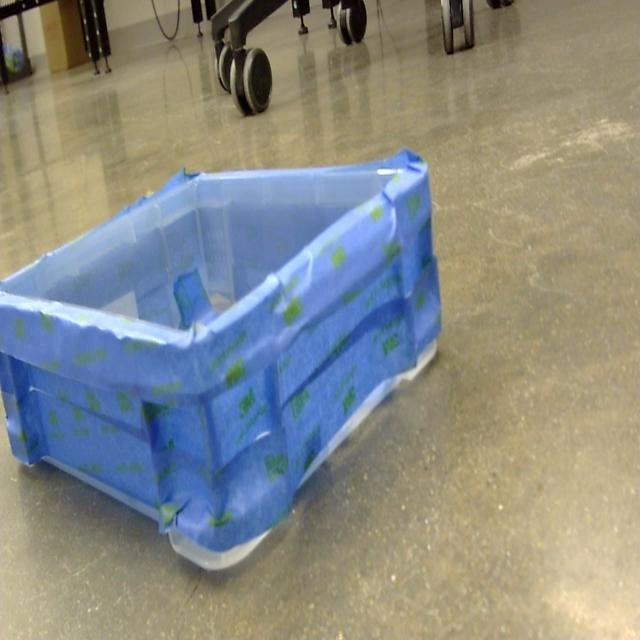bucket: (0, 148, 444, 578)
